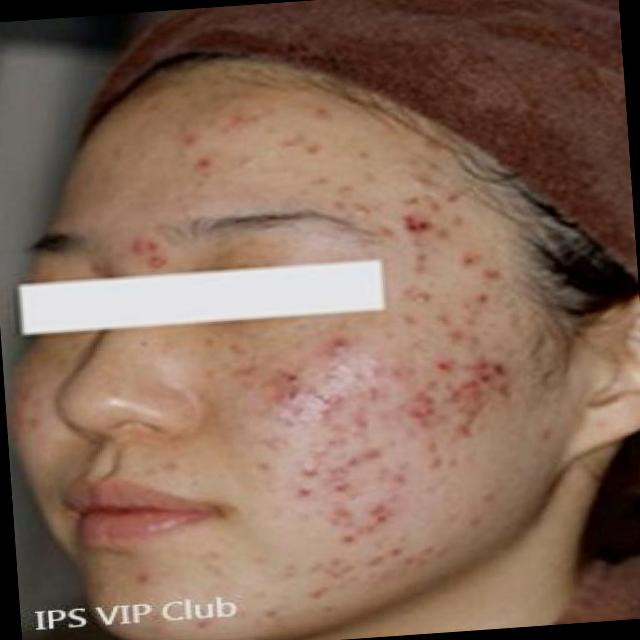acne: (278, 120, 352, 166), (396, 437, 456, 478), (172, 126, 228, 166), (435, 200, 486, 242), (404, 243, 455, 280), (391, 215, 447, 248), (180, 160, 236, 192), (442, 246, 496, 278), (134, 253, 188, 284), (291, 92, 343, 124), (458, 262, 512, 290), (308, 170, 357, 200), (114, 557, 170, 583), (212, 103, 264, 131), (125, 226, 172, 256), (350, 405, 397, 433), (260, 390, 313, 414), (433, 416, 476, 444), (414, 538, 454, 567), (402, 394, 436, 428), (326, 460, 356, 498), (436, 323, 474, 353), (404, 186, 455, 208), (434, 374, 473, 402), (452, 280, 492, 307), (310, 393, 349, 420), (382, 304, 416, 334), (354, 442, 390, 470), (306, 582, 341, 610), (370, 466, 406, 492), (412, 167, 462, 185), (308, 337, 346, 360), (272, 557, 302, 586), (316, 501, 344, 532), (322, 200, 376, 216), (418, 356, 460, 376), (371, 360, 413, 380), (486, 378, 516, 406), (258, 428, 290, 454), (443, 396, 489, 414), (244, 452, 278, 476), (298, 440, 336, 461), (97, 140, 133, 162), (353, 382, 389, 404), (236, 362, 266, 388), (427, 306, 459, 330), (310, 552, 342, 575), (186, 612, 218, 635), (470, 483, 502, 506), (150, 453, 183, 474), (462, 508, 489, 532), (383, 545, 415, 565), (252, 602, 284, 622), (472, 358, 502, 379), (531, 421, 558, 444), (286, 478, 315, 499), (360, 552, 386, 575), (342, 364, 368, 384), (198, 545, 225, 564), (364, 508, 396, 524), (411, 288, 438, 304), (288, 459, 314, 474), (337, 530, 358, 548), (278, 373, 306, 386)
